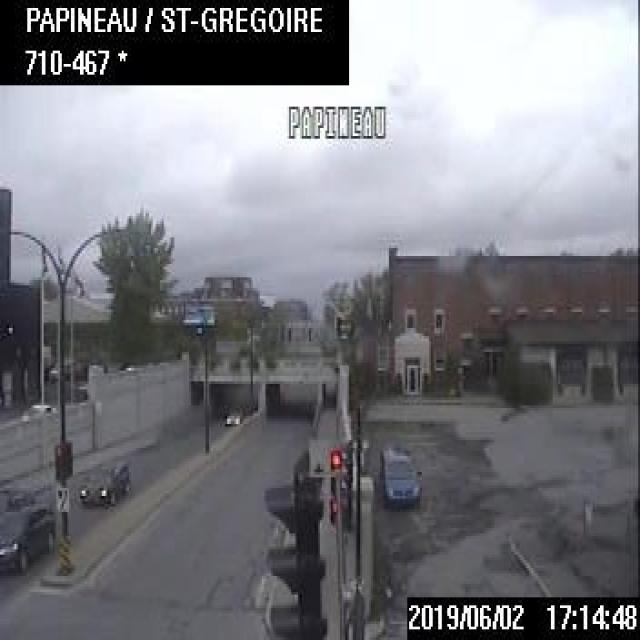vehicle: (0, 499, 55, 573), (378, 444, 424, 508), (78, 456, 126, 504), (20, 402, 54, 421), (224, 408, 242, 427)
